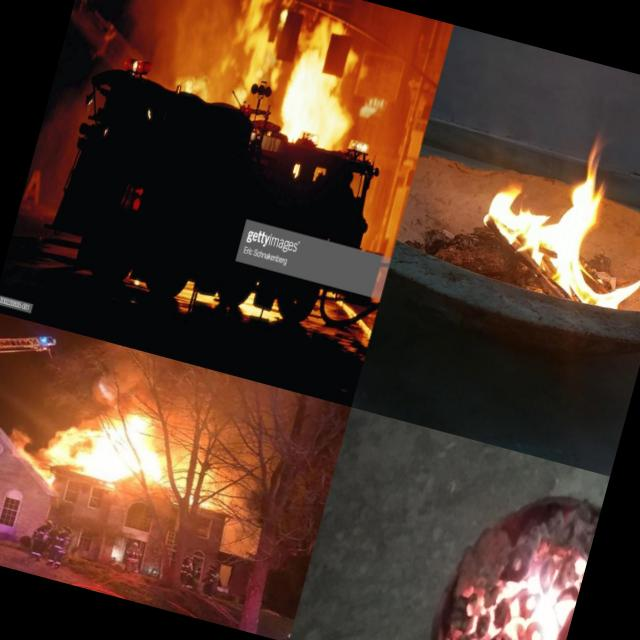fire: (459, 98, 640, 320), (431, 512, 591, 640), (41, 402, 166, 503), (272, 44, 372, 152), (217, 0, 292, 102), (1, 425, 51, 473), (178, 71, 210, 100)
smoke: (115, 0, 248, 78)
